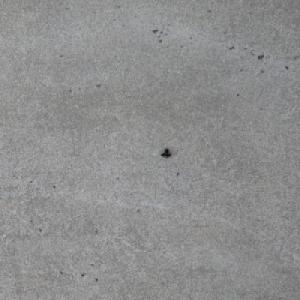BoltWasher: (160, 148, 172, 157)
